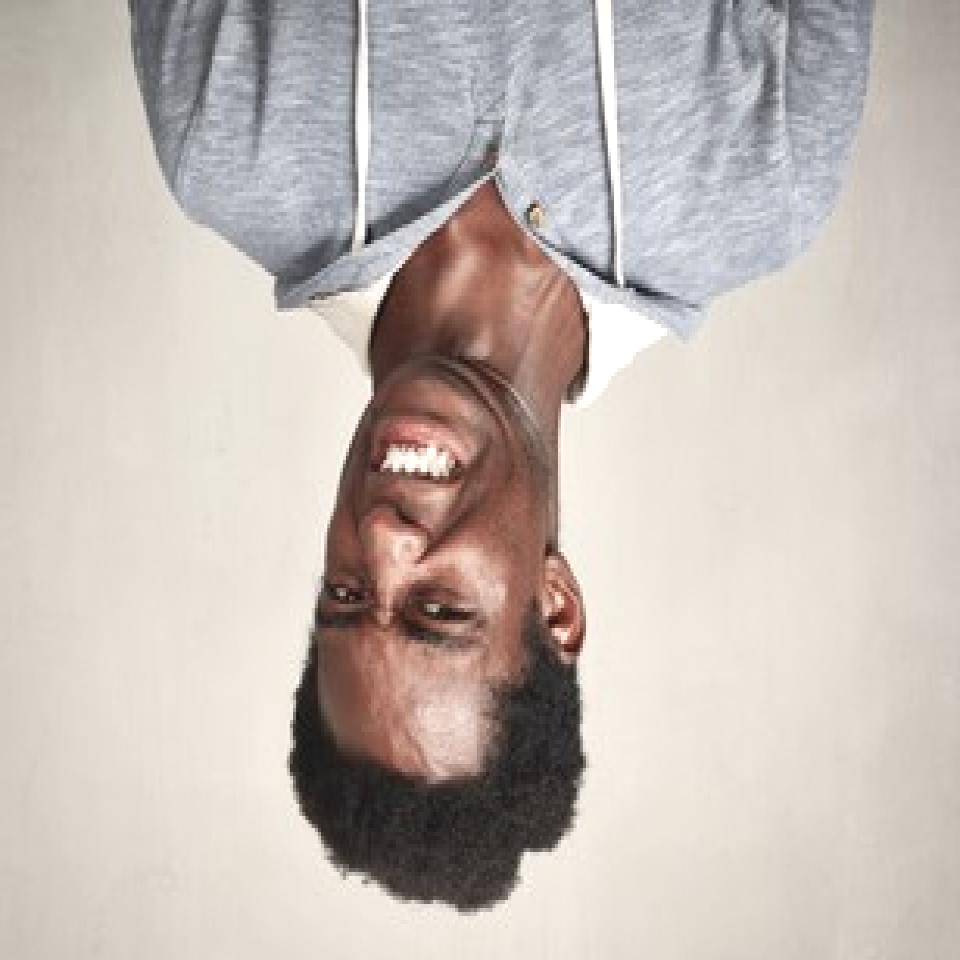Disgust: (310, 358, 588, 786)
